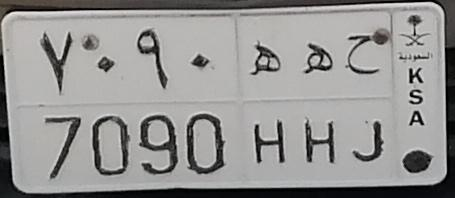0: (185, 52, 226, 176), (91, 55, 132, 176)
7: (37, 30, 82, 182)
9: (136, 27, 179, 176)
H: (248, 40, 286, 165), (301, 42, 338, 166)
J: (345, 33, 385, 162)
